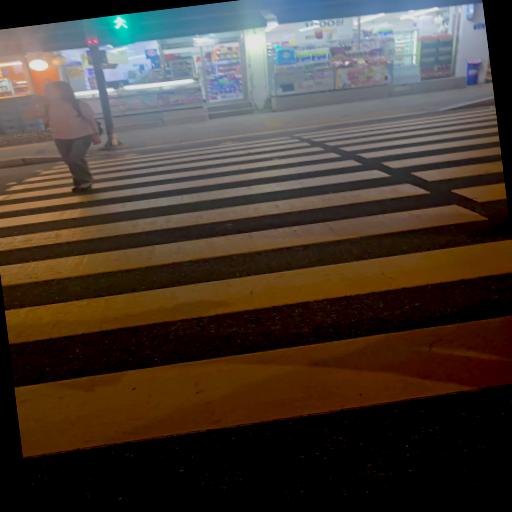yellow-crosswalk: (0, 98, 512, 491)
